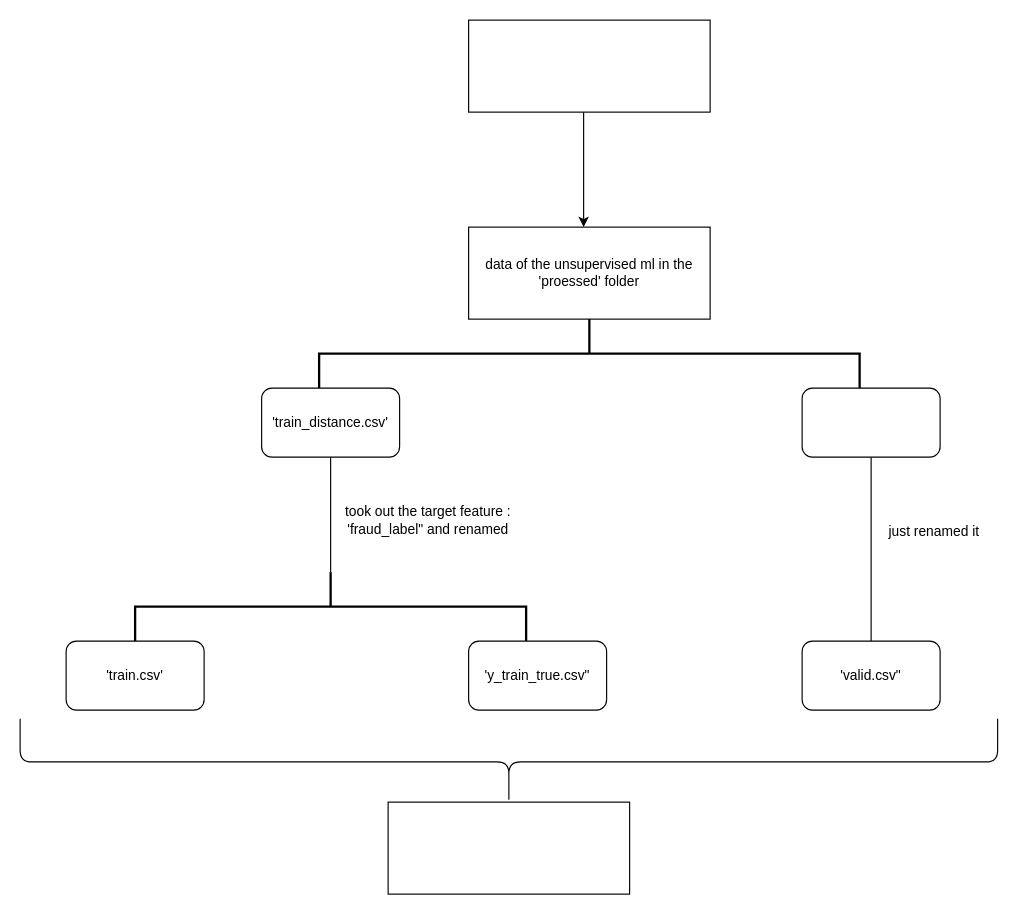
Image size: 1018x914. Some labels were removed from this diagram. Each missing label, with the box of its shape:
'valid_distance.csv': (801, 387, 940, 457)
data in the 'unsupervised_ready' folder: (387, 801, 630, 894)
Distance_based model data from the supervised_ml: (467, 19, 710, 112)
